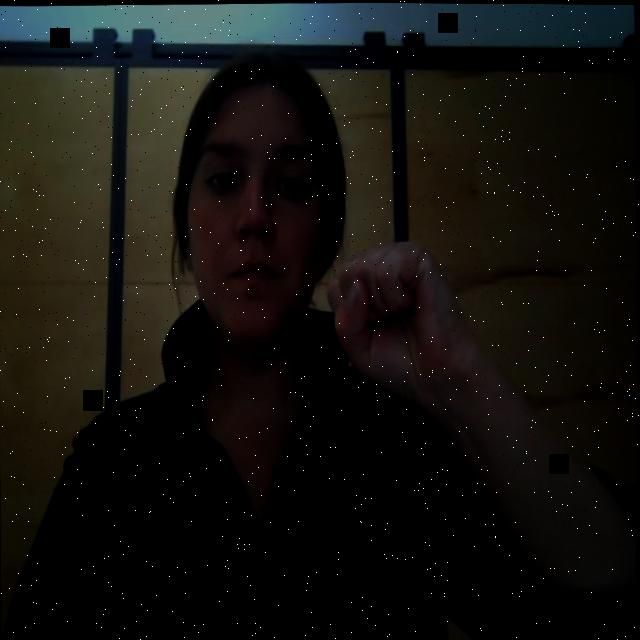Rock: (322, 236, 466, 406)
